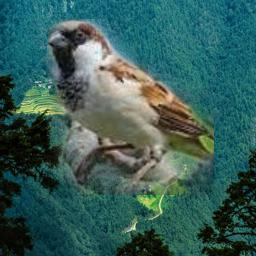Sparrow: (47, 19, 214, 195)
